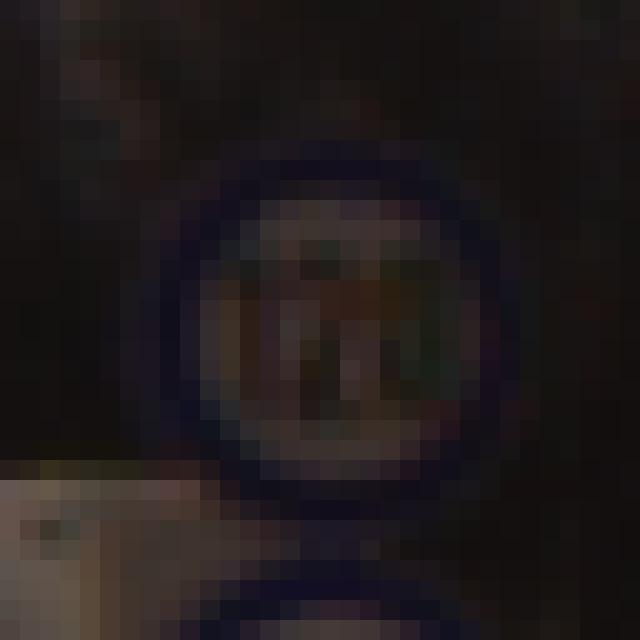SPEED LIMIT 120: (165, 153, 514, 496)
